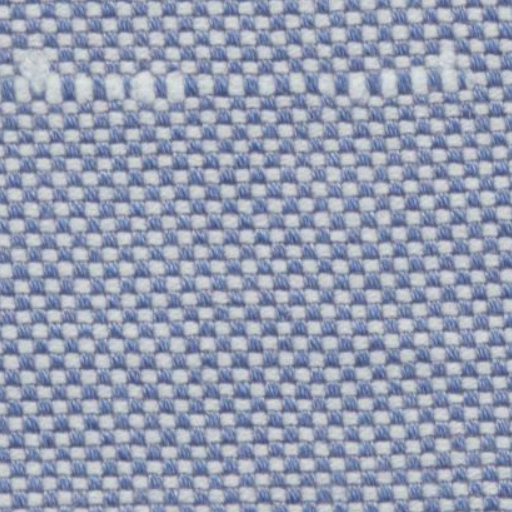DaiSha: (4, 40, 488, 110)
